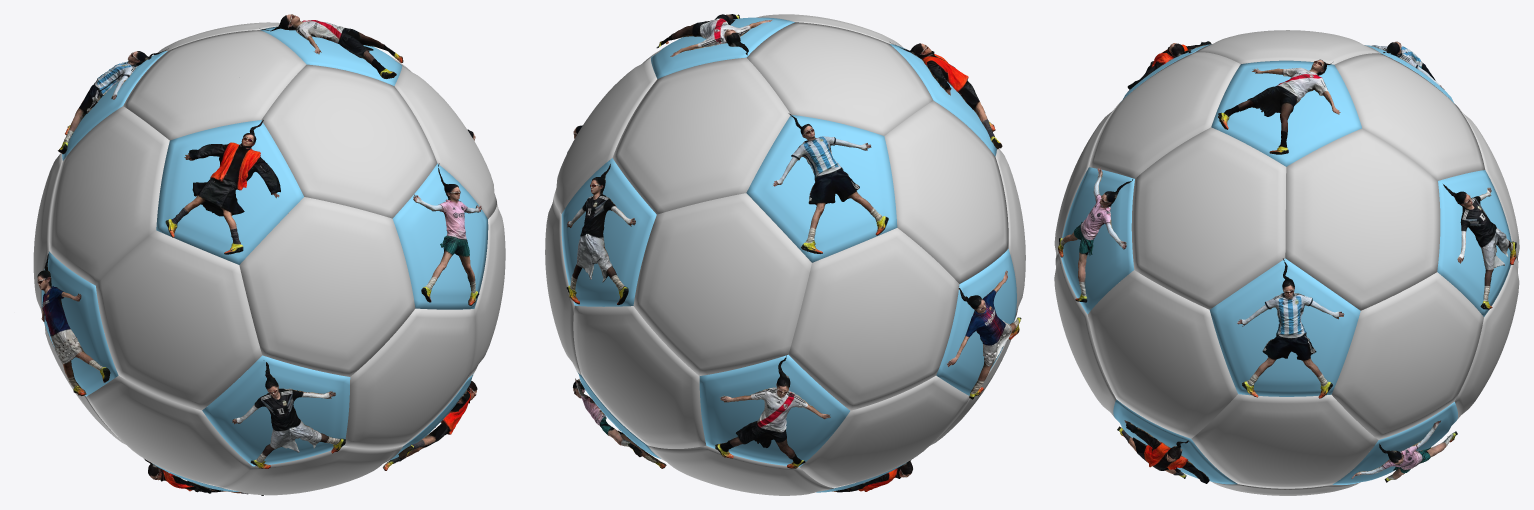
File: martine-ball-allfacingup1.glb
The picture shows the model from 3 angles, left to right: view 1: azimuth 30°, elevation 25°; view 2: azimuth 150°, elevation 25°; view 3: azimuth 270°, elevation 25°; orthographic projection. The views are drawn at different scales.
Visible parts, largest first — view 1: Icosphere.001; view 2: Icosphere.001; view 3: Icosphere.001.
Boxes of the visible parts, <box> form: Icosphere.001: <box>33,14,505,495</box>; Icosphere.001: <box>545,14,1025,495</box>; Icosphere.001: <box>1054,30,1519,495</box>.
Size of the model in its own units: 5.52 by 5.38 by 5.23.
Materials: 9 (7 with a texture image).
